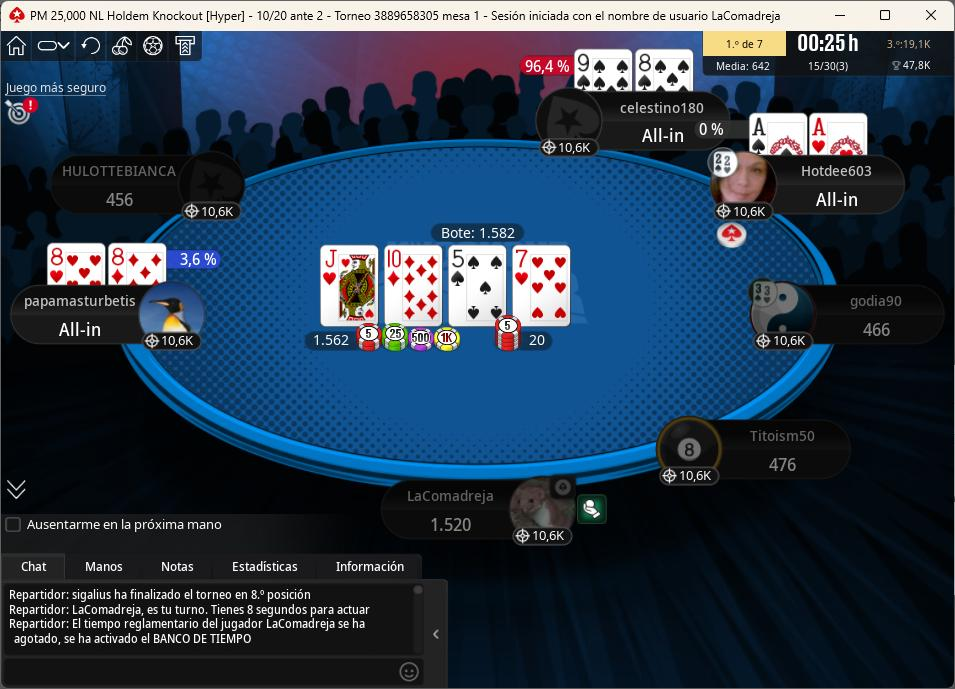Player: (746, 279, 946, 350), (707, 151, 910, 218), (658, 417, 859, 484), (4, 282, 198, 350), (49, 152, 246, 218), (542, 93, 732, 159)
PlayerChips: (57, 317, 111, 339), (637, 124, 691, 145), (815, 187, 864, 210), (765, 454, 809, 477), (860, 316, 902, 339), (99, 190, 141, 210)
Pot: (431, 223, 527, 243)
PrincipalPlayer: (385, 478, 589, 549)
PrincipalPlayerChips: (421, 516, 478, 536)
ShowedCards: (311, 240, 573, 338)
ShowedCards1: (318, 243, 379, 331)
ShowedCards2: (381, 242, 446, 329)
ShowedCards3: (447, 242, 510, 328)
ShowedCards4: (510, 243, 573, 329)
SmallBigBlind: (244, 4, 333, 30)
TablePot: (302, 313, 587, 365)
